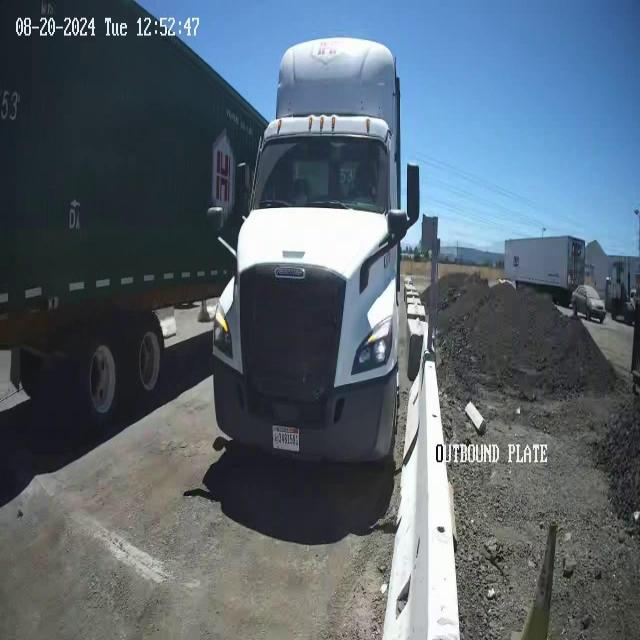TRUCK_IN: (211, 36, 420, 469)
